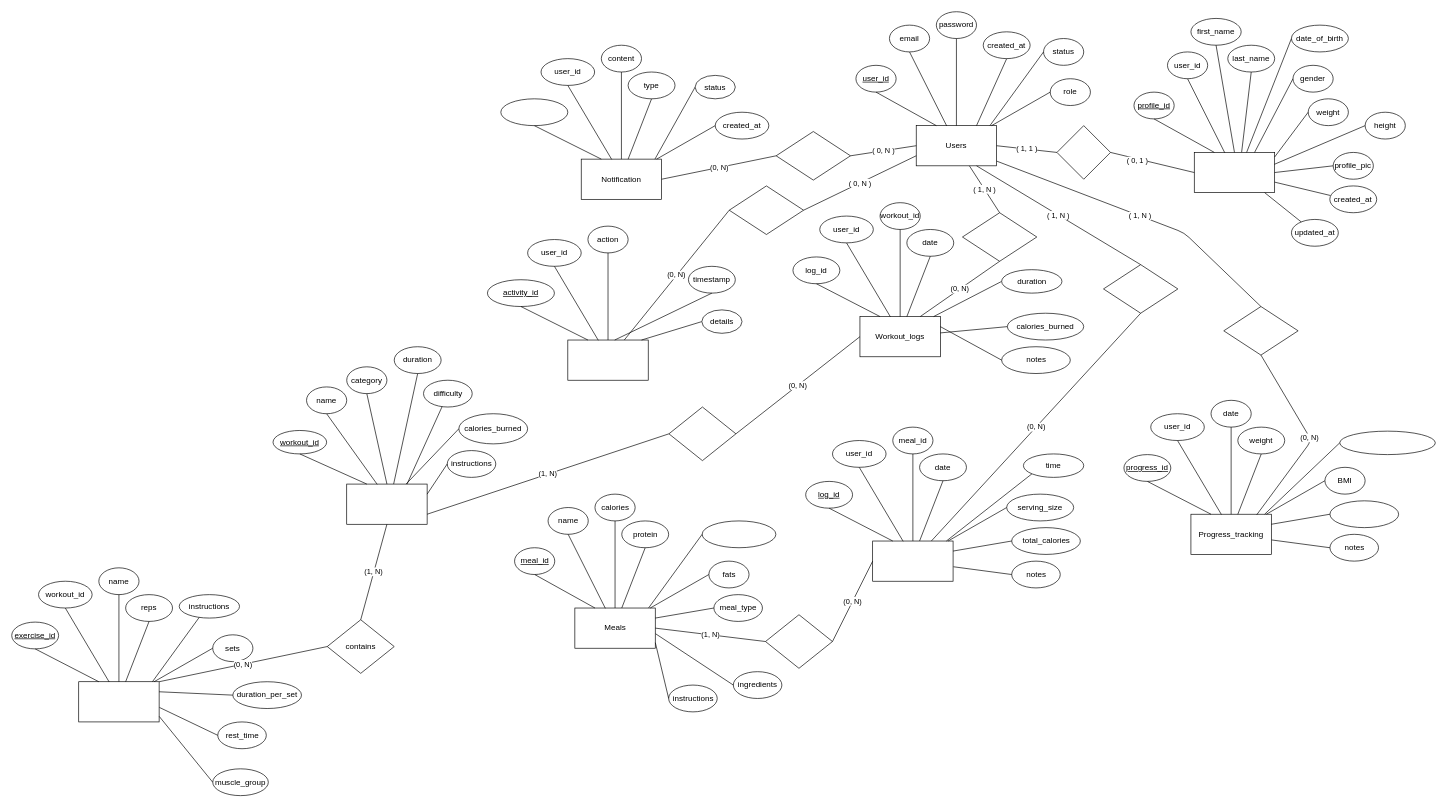
Some shapes in this 1447 by 807 pixel diagram are drawn without their labels. The centre of each missing label's shape, as x and y in pixels:
"Activity_log" goes at point 607,359.
"body_fat_percentage" goes at point 1387,442.
"carbohydrates" goes at point 738,534.
"Exercises" goes at point 118,701.
"has Activitty" goes at point 766,209.
"have" goes at point 1083,152.
"logged_meal" goes at point 798,641.
"logged_workout" goes at point 702,433.
"logs meals" goes at point 1140,288.
"logs workouts" goes at point 999,236.
"Meal_logs" goes at point 912,560.
"muscle_mass" goes at point 1364,514.
"notification_id" goes at point 534,112.
"receives" goes at point 812,155.
"track Progress" goes at point 1260,330.
"User_profile" goes at point 1234,172.
"Workouts" goes at point 386,503.
